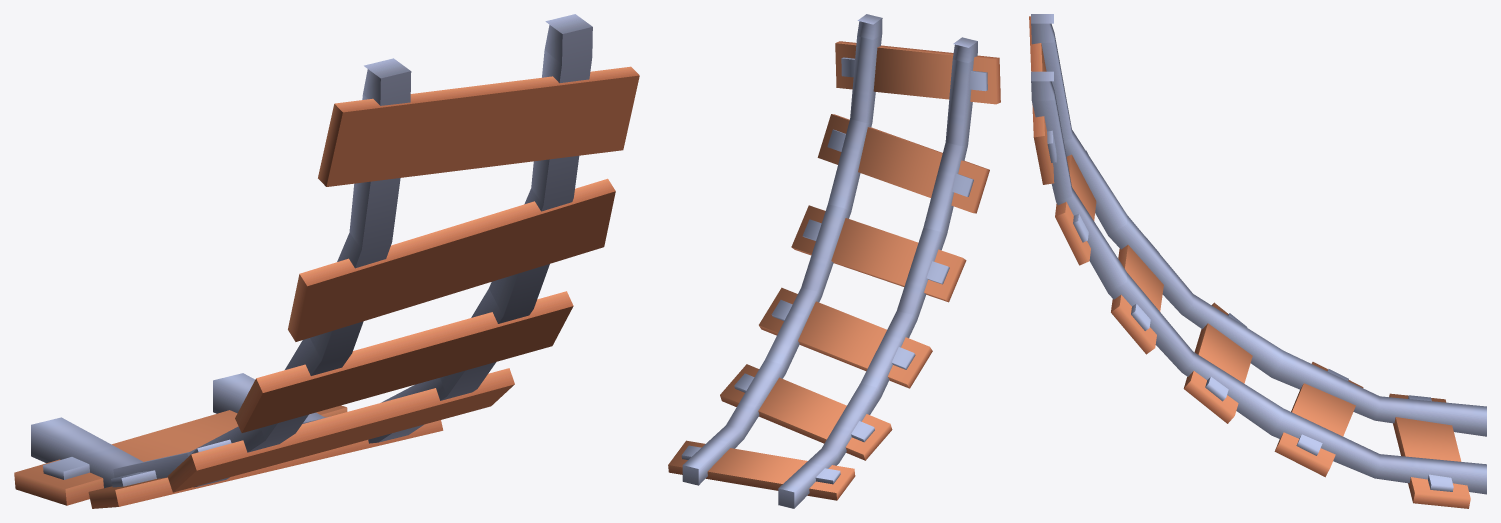
Rendered from kenney-train-railroad-damaged-straight-bend.glb.
The picture shows the model from 3 angles, left to right: view 1: azimuth 30°, elevation 25°; view 2: azimuth 150°, elevation 25°; view 3: azimuth 270°, elevation 25°; orthographic projection. The views are drawn at different scales.
Visible parts, largest first — view 1: railroad-damaged-straight-bend; view 2: railroad-damaged-straight-bend; view 3: railroad-damaged-straight-bend.
Boxes of the visible parts, <box> form: railroad-damaged-straight-bend: <box>14,14,639,508</box>; railroad-damaged-straight-bend: <box>668,14,1000,508</box>; railroad-damaged-straight-bend: <box>1029,14,1486,508</box>.
Size of the model in its own units: 1.03 by 2.01 by 2.01.
1 material, 1 textured.
